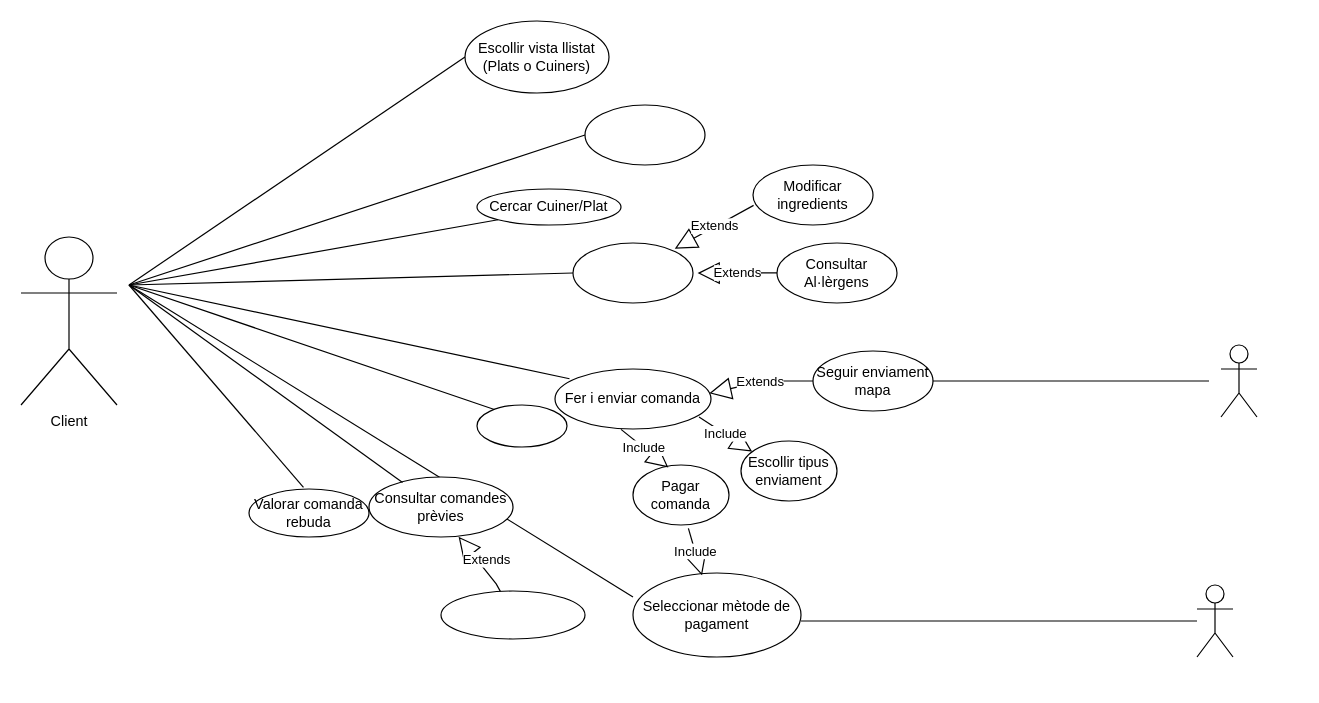
The diagram is 1319 pixels wide and 703 high, and some of its shapes have lost their labels. Here are the shapes that lost their labels. From the top down, the centre of each, then its label:
the point at 644,134: Consultar Plats/Menus Disponibles
the point at 632,272: Seleccionar plat
the point at 1238,380: Google Maps
the point at 521,425: Reservar Comanda
the point at 512,614: Repetir comanda prèvia
the point at 1214,620: Targeta Bancària / PayPal
